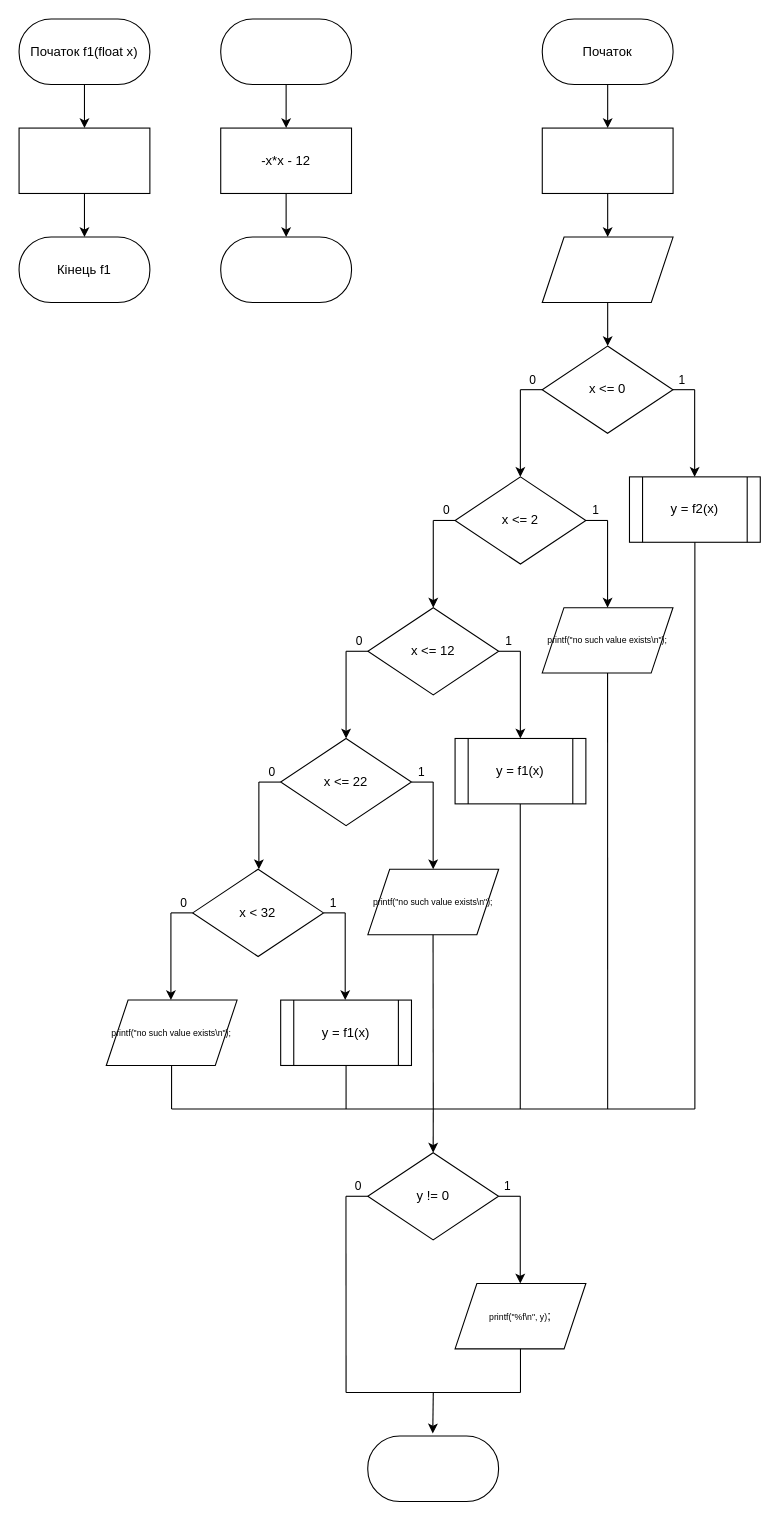
Image size: 779x1521. Some labels were removed from this diagram. Each missing label, with the centre of its shape:
"-9 * x*x*x + 5 * x*x" goes at (x=84, y=160).
"y = 0.0" goes at (x=607, y=160).
"Ввід х" goes at (x=607, y=269).
"Кінець" goes at (x=433, y=1468).
"Кінець f2" goes at (x=286, y=269).
"Початок f2(float x)" goes at (x=286, y=51).
